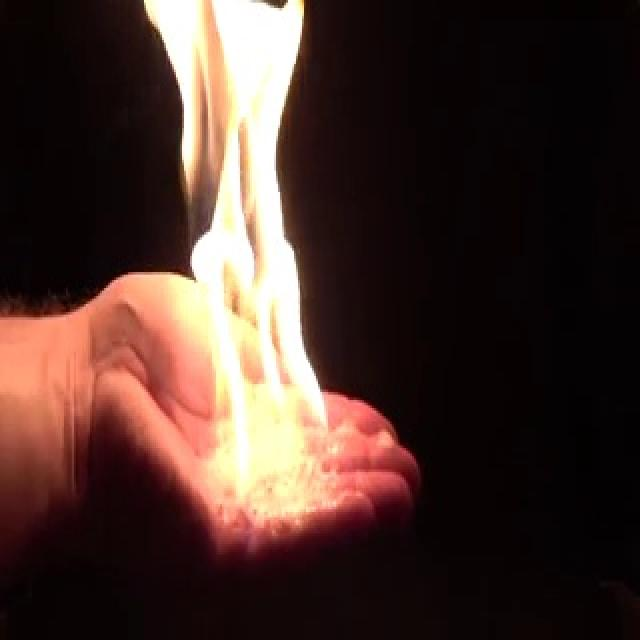fire: (138, 0, 334, 482)
